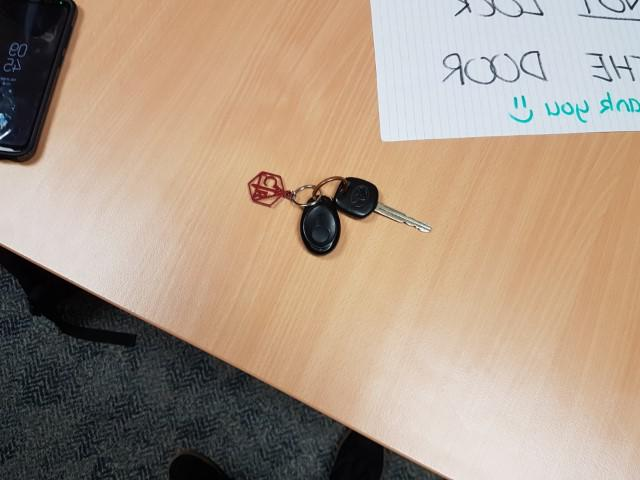key: (336, 177, 433, 234)
